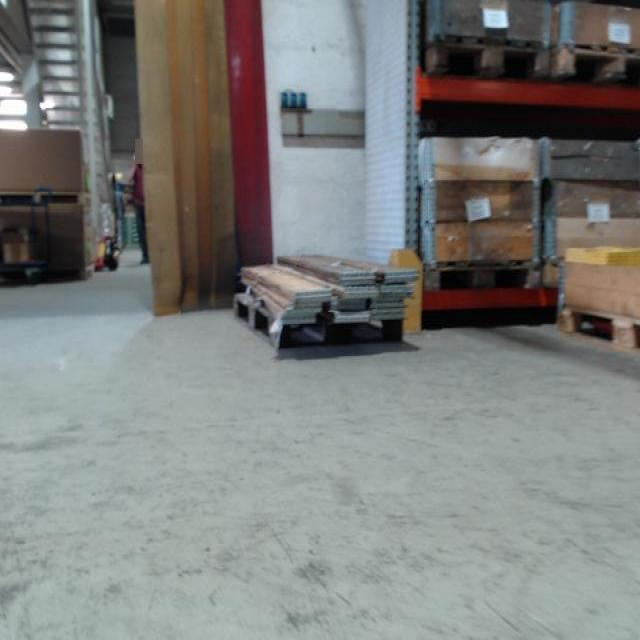pallet: (230, 291, 405, 351), (553, 301, 640, 365), (418, 38, 551, 79), (419, 257, 541, 292), (552, 41, 640, 88), (0, 185, 95, 211)
pallet_truck: (95, 169, 124, 276)
